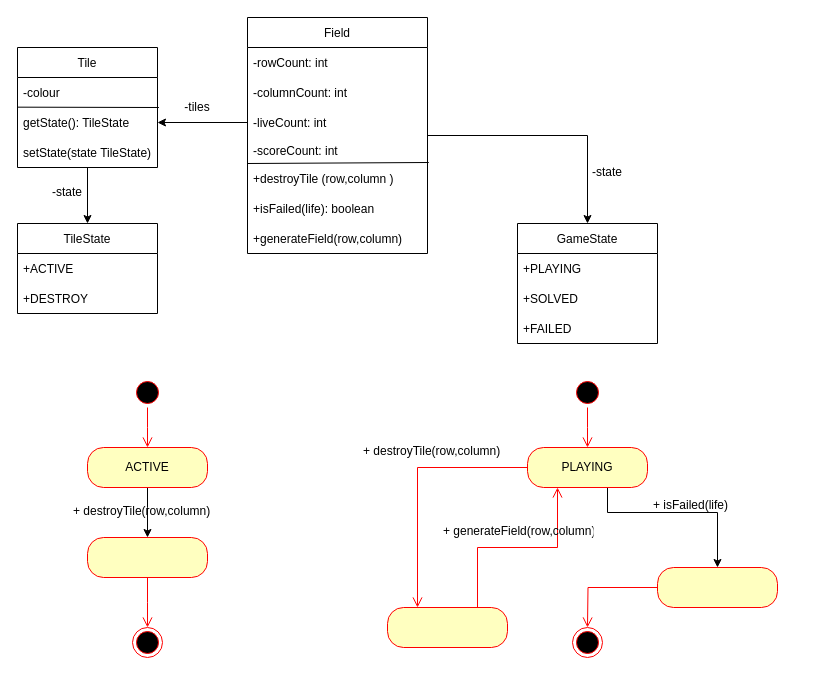
Image size: 825x675. Some labels were removed from this diagram. The centre of each missing label's shape, as x and y in pixels:
"DESTROY" belongs at [147,557].
"FAILED" belongs at [717,587].
"SOLVED" belongs at [447,627].
